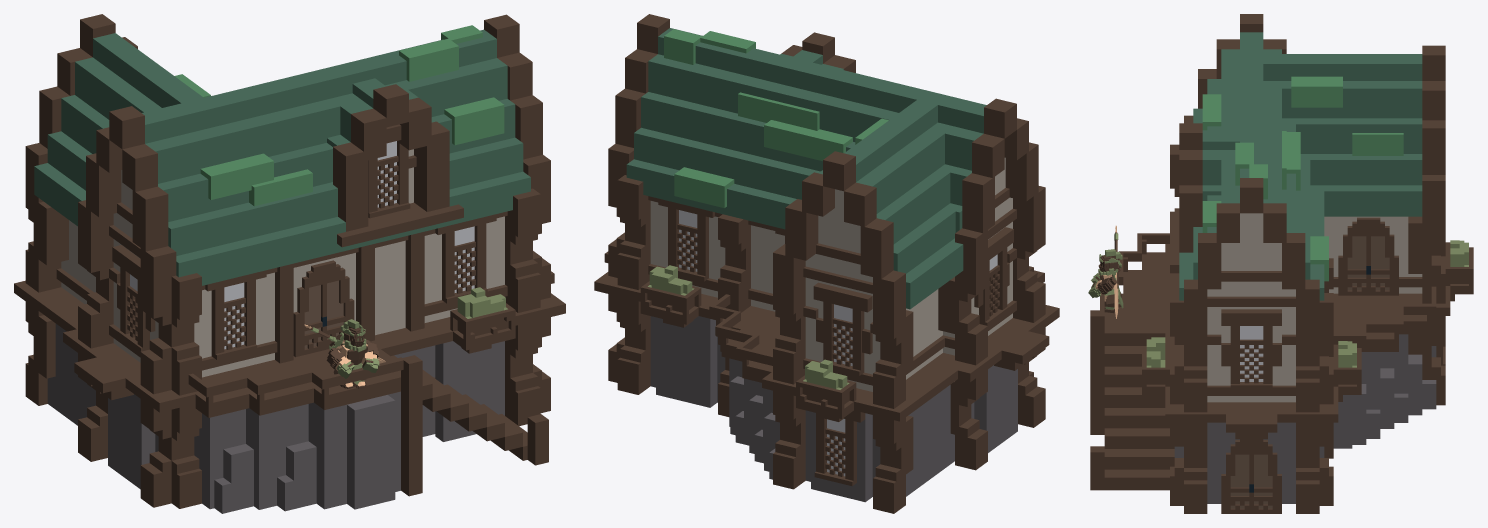
File: asset.glb
3 renders of one model, left to right at view 1: azimuth 30°, elevation 25°; view 2: azimuth 150°, elevation 25°; view 3: azimuth 270°, elevation 25°, orthographic. The views are drawn at different scales.
Parts seen in each view (by area): view 1: Part403, Part515, Part399, Part497, Part629, Part458, Part498, Part619, Part630, Part598, Part560, Part377 (+91 smaller); view 2: Part404, Part399, Part406, Part402, Part499, Part574, Part486, Part515, Part407, Part376, Part377, Part436 (+82 smaller); view 3: Part478, Part377, Part375, Part371, Part369, Part409, Part399, Part624, Part566, Part403, Part576, Part404 (+86 smaller).
Part boxes in pixels (x1=…): Part403: x1=145, y1=58, x2=507, y2=183; Part515: x1=113, y1=216, x2=504, y2=377; Part399: x1=142, y1=29, x2=496, y2=143; Part497: x1=168, y1=182, x2=337, y2=255; Part629: x1=347, y1=395, x2=395, y2=509; Part458: x1=158, y1=98, x2=515, y2=221; Part498: x1=176, y1=222, x2=323, y2=285; Part619: x1=435, y1=341, x2=501, y2=441; Part630: x1=308, y1=391, x2=400, y2=509; Part598: x1=246, y1=404, x2=308, y2=509; Part560: x1=63, y1=329, x2=289, y2=412; Part377: x1=93, y1=33, x2=203, y2=107; Part404: x1=648, y1=54, x2=983, y2=170; Part399: x1=658, y1=28, x2=986, y2=133; Part406: x1=634, y1=127, x2=962, y2=232; Part402: x1=641, y1=92, x2=971, y2=205; Part499: x1=656, y1=316, x2=717, y2=407; Part574: x1=805, y1=254, x2=942, y2=391; Part486: x1=805, y1=385, x2=954, y2=496; Part515: x1=650, y1=201, x2=954, y2=355; Part407: x1=626, y1=159, x2=796, y2=229; Part376: x1=856, y1=129, x2=944, y2=213; Part377: x1=844, y1=100, x2=937, y2=181; Part436: x1=762, y1=363, x2=957, y2=421; Part478: x1=1207, y1=281, x2=1295, y2=402; Part377: x1=1263, y1=54, x2=1422, y2=80; Part375: x1=1282, y1=81, x2=1422, y2=118; Part371: x1=1300, y1=154, x2=1422, y2=185; Part369: x1=1296, y1=118, x2=1422, y2=153; Part409: x1=1324, y1=185, x2=1422, y2=216; Part399: x1=1240, y1=32, x2=1263, y2=177; Part624: x1=1104, y1=293, x2=1169, y2=345; Part566: x1=1165, y1=357, x2=1338, y2=422; Part403: x1=1221, y1=49, x2=1239, y2=203; Part576: x1=1207, y1=422, x2=1295, y2=503; Part404: x1=1263, y1=49, x2=1281, y2=203.
Bounding box in the file's own units: 25 × 19.25 × 20.62.
